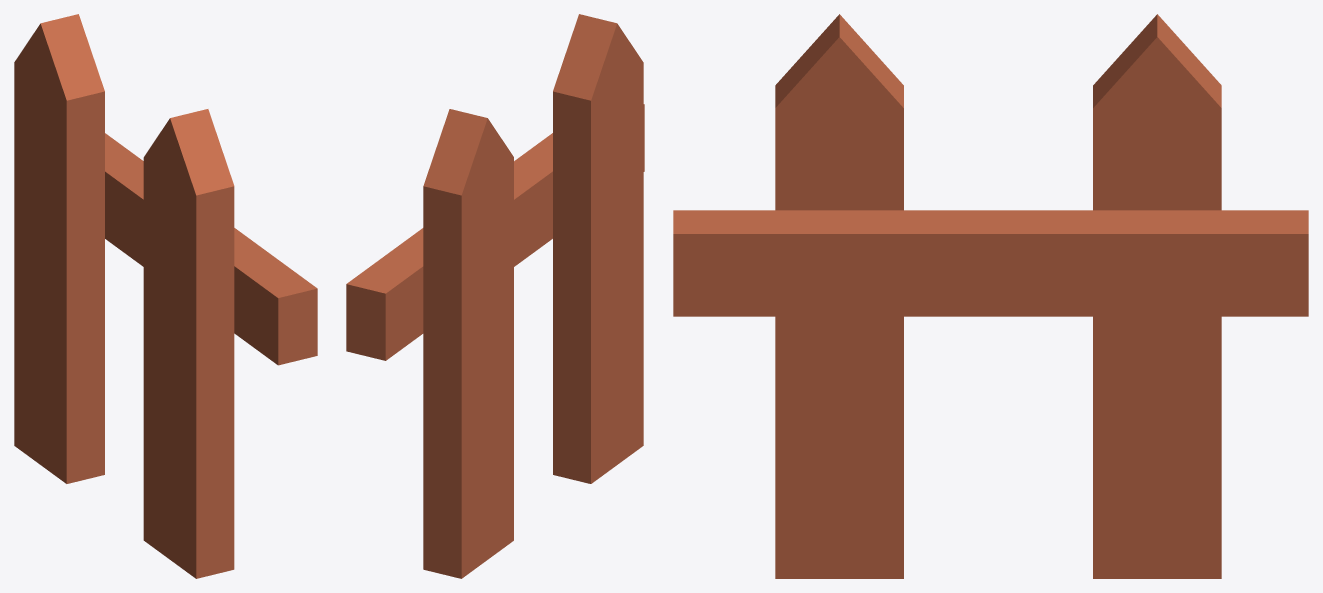
File: Barriere.fbx
The picture shows the model from 3 angles, left to right: view 1: azimuth 30°, elevation 25°; view 2: azimuth 150°, elevation 25°; view 3: azimuth 270°, elevation 25°; orthographic projection. The views are drawn at different scales.
Visible parts, largest first — view 1: Cube.002; view 2: Cube.002; view 3: Cube.002.
Part boxes in pixels (<box>): Cube.002: <box>14,14,317,578</box>; Cube.002: <box>346,14,644,578</box>; Cube.002: <box>673,14,1308,578</box>.
Bounding box in the file's own units: 31.75 × 168 × 178.
